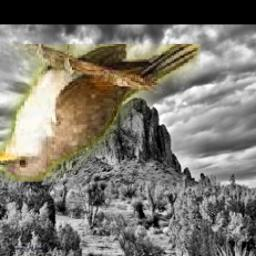Cuckoo: (0, 45, 199, 183)
